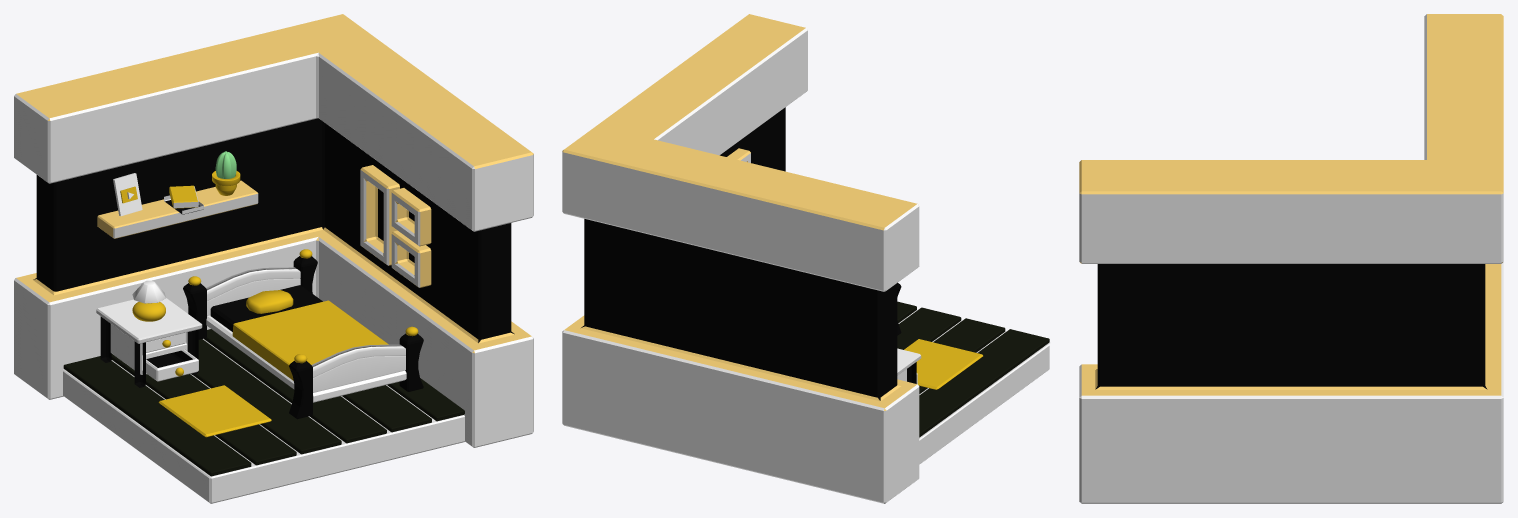
The model's file is room.glb.
The picture shows the model from 3 angles, left to right: view 1: azimuth 30°, elevation 25°; view 2: azimuth 150°, elevation 25°; view 3: azimuth 270°, elevation 25°; orthographic projection. The views are drawn at different scales.
Visible parts, largest first — view 1: Cube, Plane.004, Plane.003, Plane.010, Cube.001, Plane.007, Plane.012, Plane.008, Cube.003, Plane.014, Plane.006, Plane.009 (+6 smaller); view 2: Cube, Plane.004, Plane.003, Plane.014; view 3: Cube.
Boxes of the visible parts, x1,y1,x2,y2 form: Cube: (14,14,533,447); Plane.004: (63,329,464,476); Plane.003: (63,363,464,503); Plane.010: (232,300,388,380); Cube.001: (360,165,431,287); Plane.007: (206,267,405,392); Plane.012: (96,298,202,381); Plane.008: (183,256,423,419); Cube.003: (97,180,258,238); Plane.014: (158,385,271,437); Plane.006: (206,315,406,402); Plane.009: (210,285,322,331); Cube: (562,14,919,503); Plane.004: (897,301,1049,437); Plane.003: (898,311,1049,464); Plane.014: (904,339,982,389); Cube: (1079,14,1503,503).
Size of the model in its own units: 8.16 by 6.64 by 8.16.
